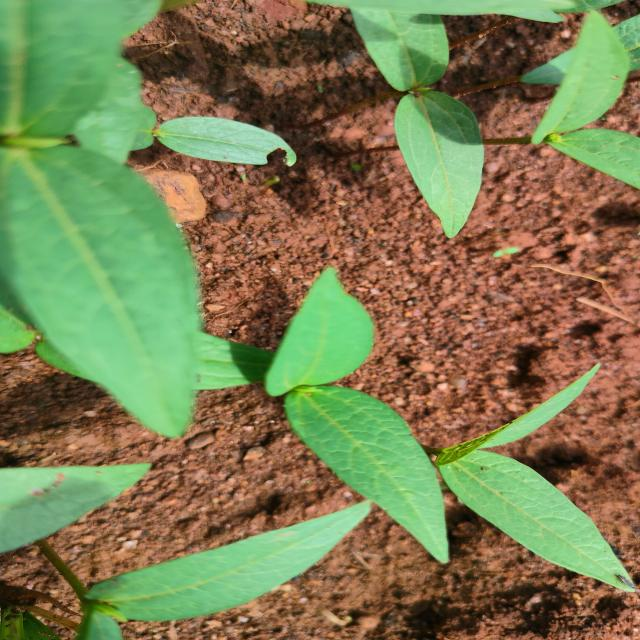Black gram_healthy: (0, 136, 199, 435), (69, 498, 372, 620), (287, 384, 451, 560), (448, 454, 636, 597), (0, 0, 152, 145), (270, 264, 386, 396), (531, 5, 640, 138), (389, 93, 485, 237), (338, 0, 463, 95)
